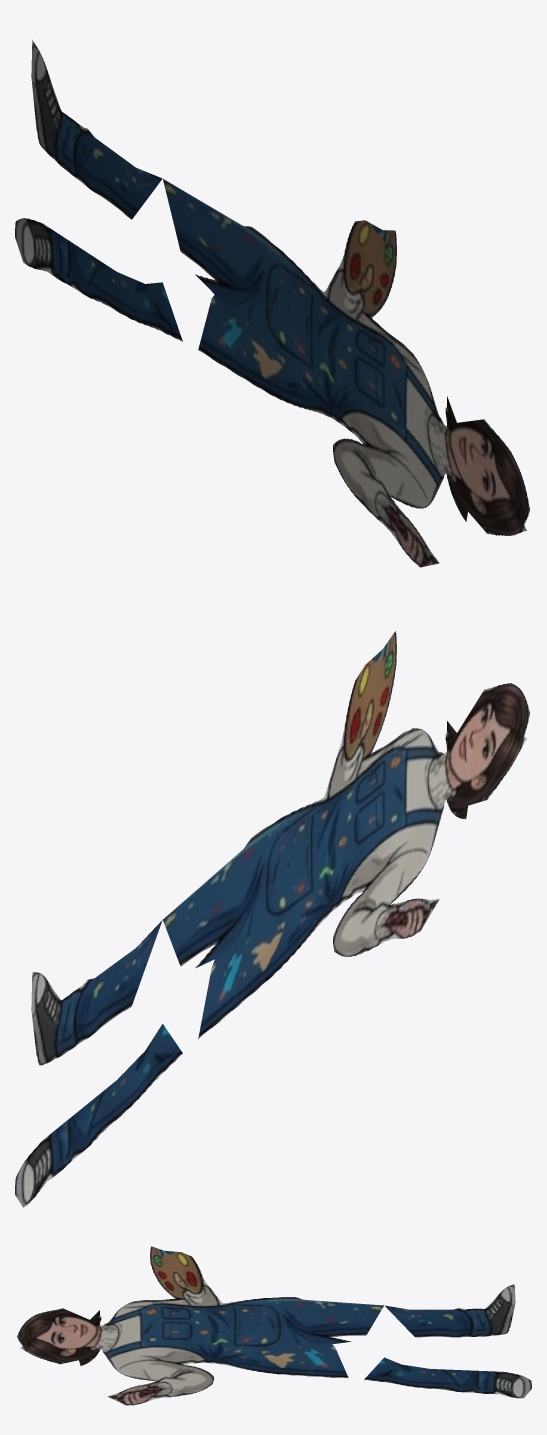
Rendered from person.obj.
3 views of the same model, one above another, from view 1: azimuth 30°, elevation 25°; view 2: azimuth 150°, elevation 25°; view 3: azimuth 270°, elevation 25° (orthographic). The views are drawn at different scales.
Parts seen in each view (by area): view 1: person_cutout; view 2: person_cutout; view 3: person_cutout.
Part boxes in pixels (left/top/right/bottom): person_cutout: left=15, top=40, right=529, bottom=567; person_cutout: left=15, top=631, right=529, bottom=1207; person_cutout: left=17, top=1246, right=531, bottom=1405.
Bounding box in the file's own units: 0 × 0.0579 × 0.15.
